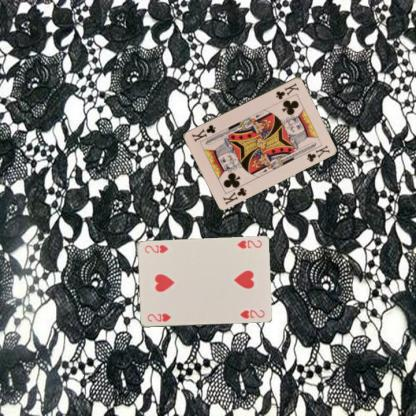2h: (234, 238, 263, 250), (145, 311, 172, 323)
Kc: (221, 184, 248, 206), (274, 80, 300, 100)
